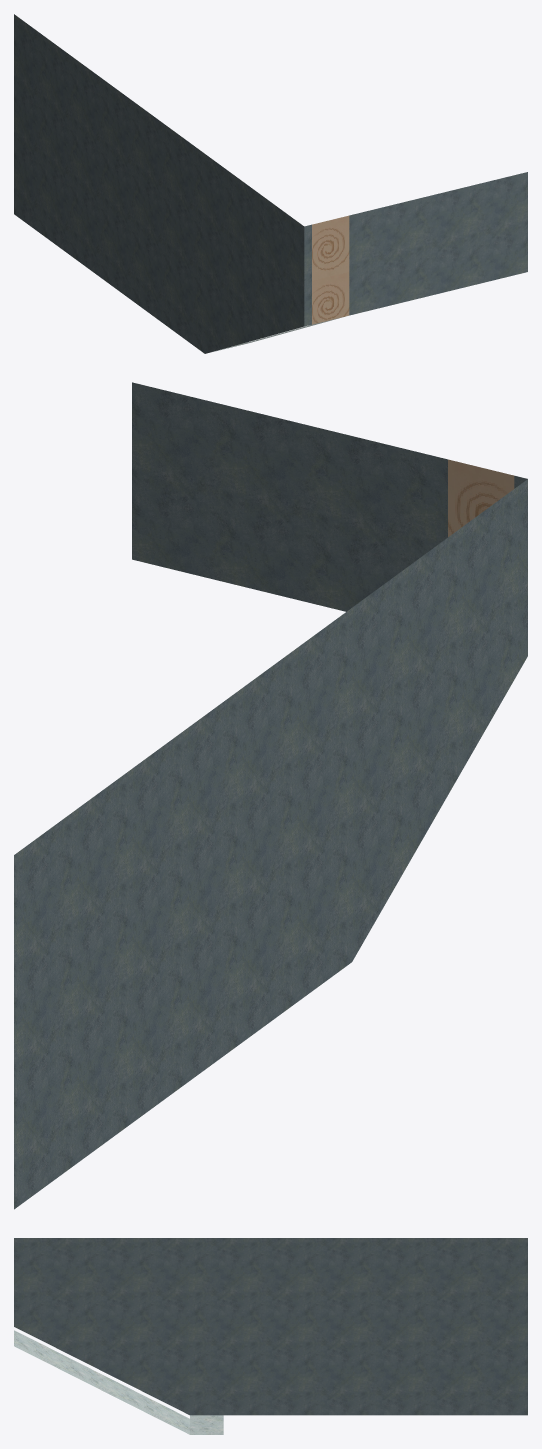
Rendered from FinalMap_Stairs_Top.FBX.
3 views of the same model, one above another, from view 1: azimuth 30°, elevation 25°; view 2: azimuth 150°, elevation 25°; view 3: azimuth 270°, elevation 25° (orthographic). The views are drawn at different scales.
Parts seen in each view (by area): view 1: FinalMap_Stairs_Top; view 2: FinalMap_Stairs_Top; view 3: FinalMap_Stairs_Top.
Part boxes in pixels (x1,y1,x2,y2): FinalMap_Stairs_Top: (14,14,527,353); FinalMap_Stairs_Top: (14,382,527,1209); FinalMap_Stairs_Top: (14,1238,527,1434).
Bounding box in the file's own units: 1102 × 943 × 2478.
